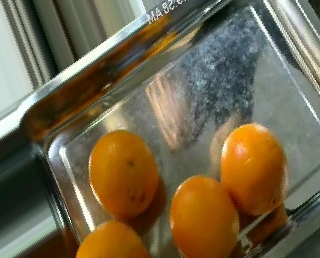Orange: (220, 122, 287, 217), (87, 130, 158, 219), (170, 174, 241, 257)
